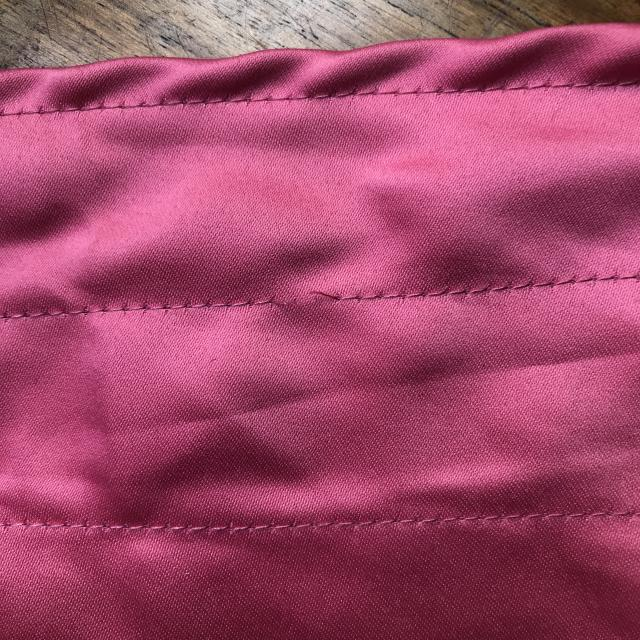broken: (239, 264, 359, 324)
good: (226, 506, 392, 538)
